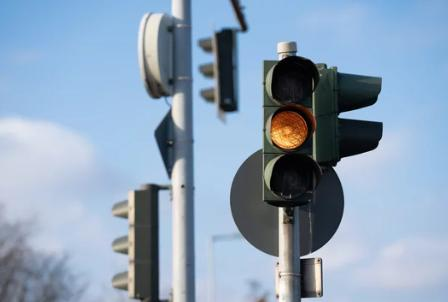yellow_light: (263, 56, 322, 205)
